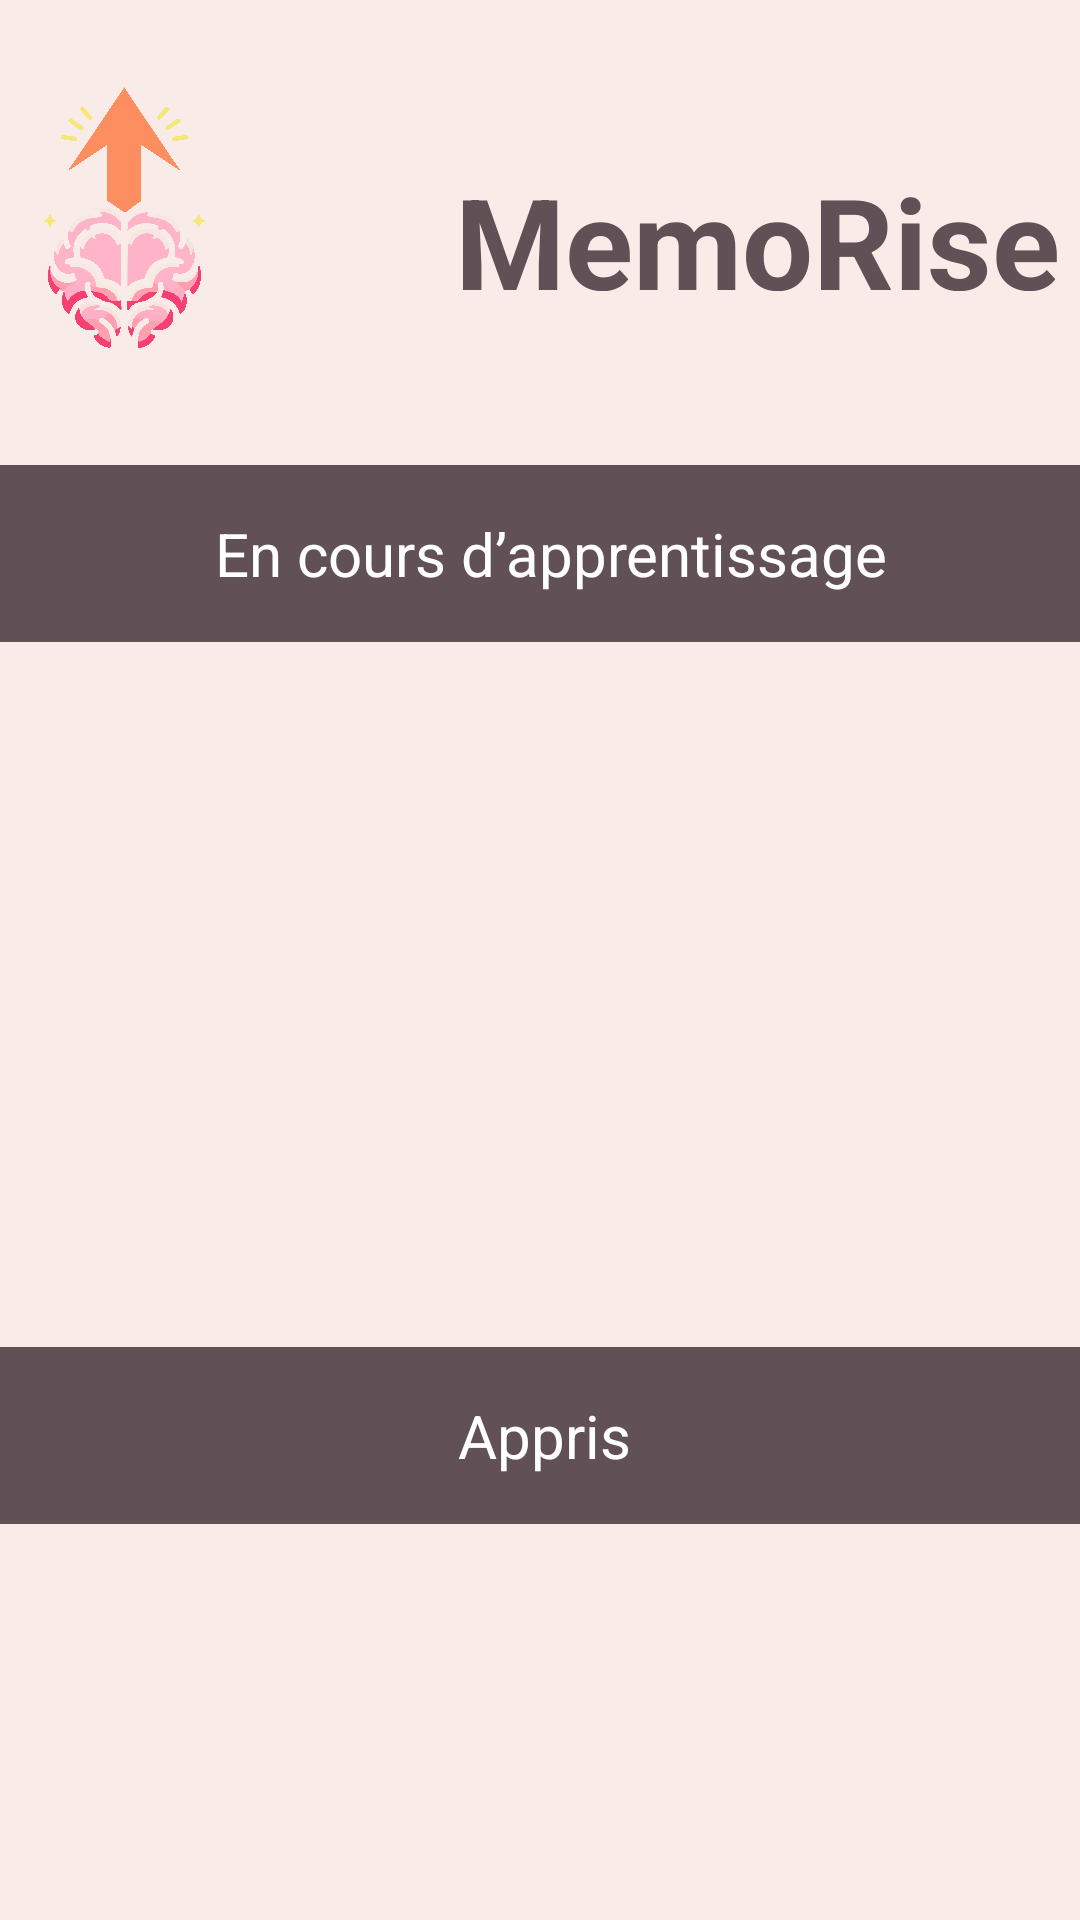

Icons on this 1080x1920 Android screen, each with its box as Rect(x1, y1, x2, y2):
memorise: Rect(44, 87, 206, 348)
